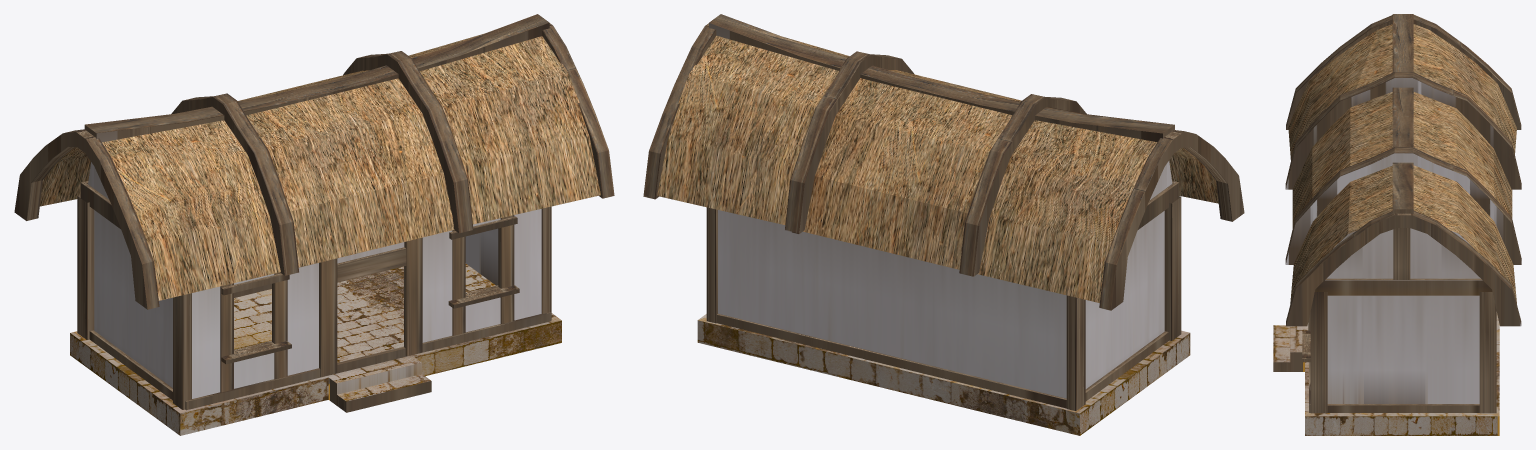
The model's file is medieval-house.obj.
The picture shows the model from 3 angles, left to right: view 1: azimuth 30°, elevation 25°; view 2: azimuth 150°, elevation 25°; view 3: azimuth 270°, elevation 25°; orthographic projection. The views are drawn at different scales.
Parts seen in each view (by area): view 1: house_Cube.026; view 2: house_Cube.026; view 3: house_Cube.026.
Boxes of the visible parts, left/top/right/bottom form: house_Cube.026: left=14, top=14, right=614, bottom=435; house_Cube.026: left=643, top=14, right=1244, bottom=435; house_Cube.026: left=1273, top=14, right=1521, bottom=435.
Size of the model in its own units: 15.75 by 8.85 by 8.21.
